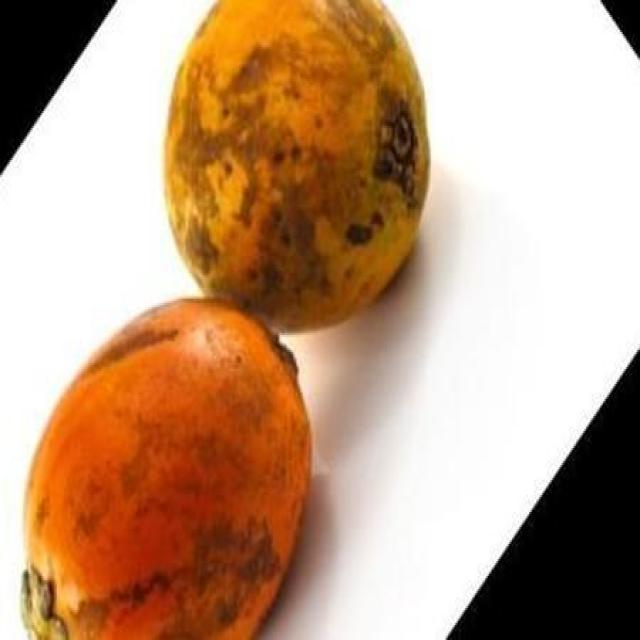good: (20, 294, 314, 638), (164, 0, 431, 339)
